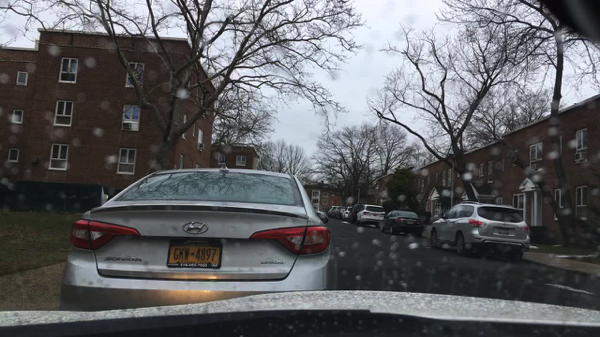car: (63, 164, 337, 310), (429, 200, 530, 261), (377, 210, 424, 236), (356, 204, 386, 225), (345, 206, 365, 224), (340, 206, 355, 220), (332, 206, 345, 217), (335, 208, 345, 218), (326, 206, 335, 216)
